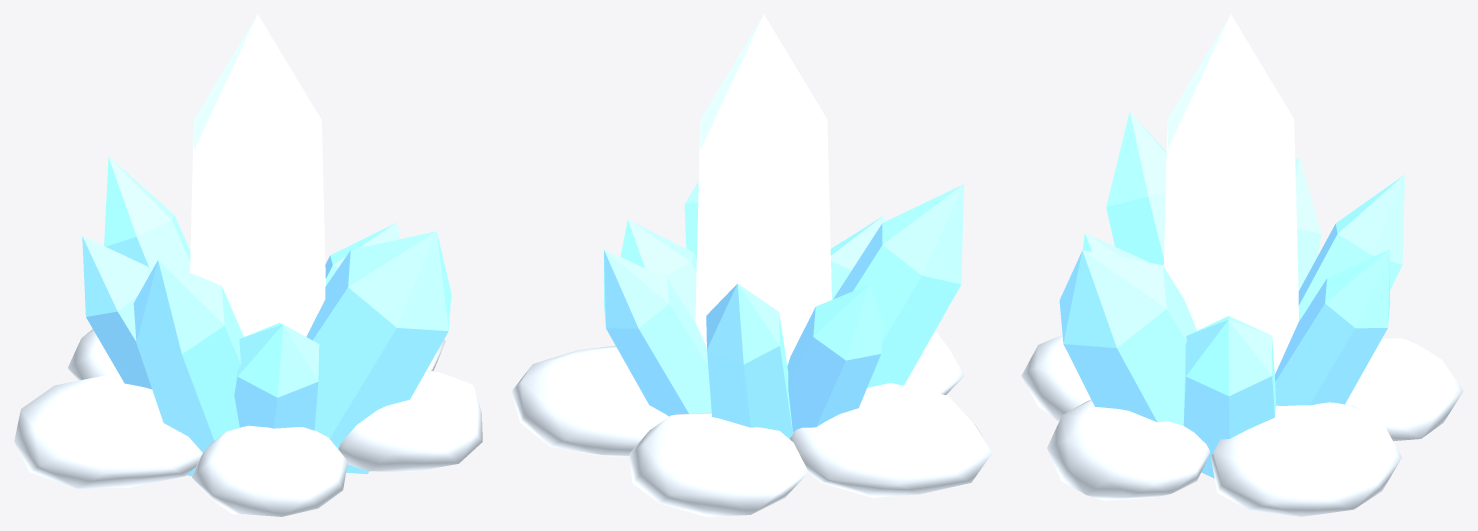
The model's file is ice_rock.glb.
The picture shows the model from 3 angles, left to right: view 1: azimuth 30°, elevation 25°; view 2: azimuth 150°, elevation 25°; view 3: azimuth 270°, elevation 25°; orthographic projection.
Parts seen in each view (by area): view 1: ice_rock; view 2: ice_rock; view 3: ice_rock.
Boxes of the visible parts, x1,y1,x2,y2 form: ice_rock: (14,14,482,516); ice_rock: (511,14,992,516); ice_rock: (1021,14,1463,516).
Size of the model in its own units: 0.6678 by 0.6462 by 0.5983.
